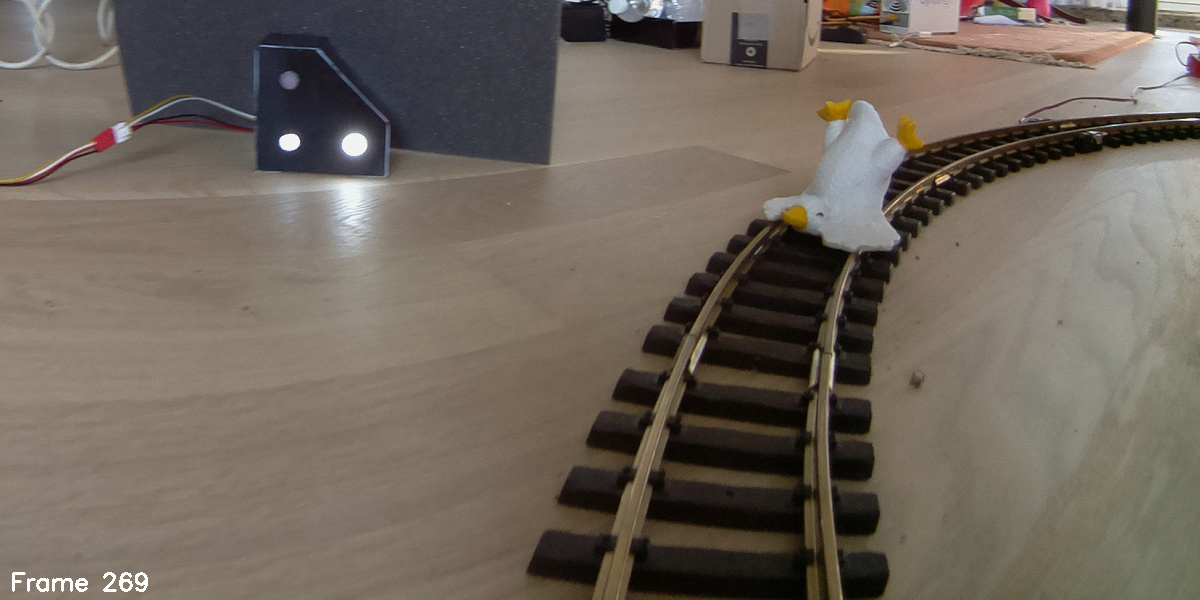Ente: (761, 96, 928, 263)
Halt: (254, 33, 392, 175)
